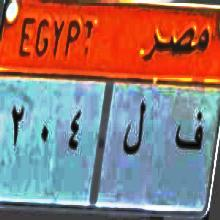0: (38, 107, 58, 159)
2: (9, 94, 31, 157)
4: (65, 102, 88, 165)
faa: (172, 109, 206, 158)
laam: (123, 98, 150, 163)
